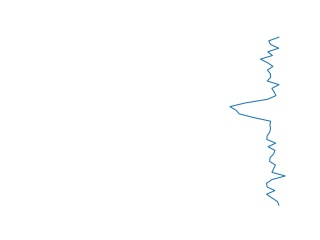interdistributaryEstuary: (224, 37, 289, 205)
